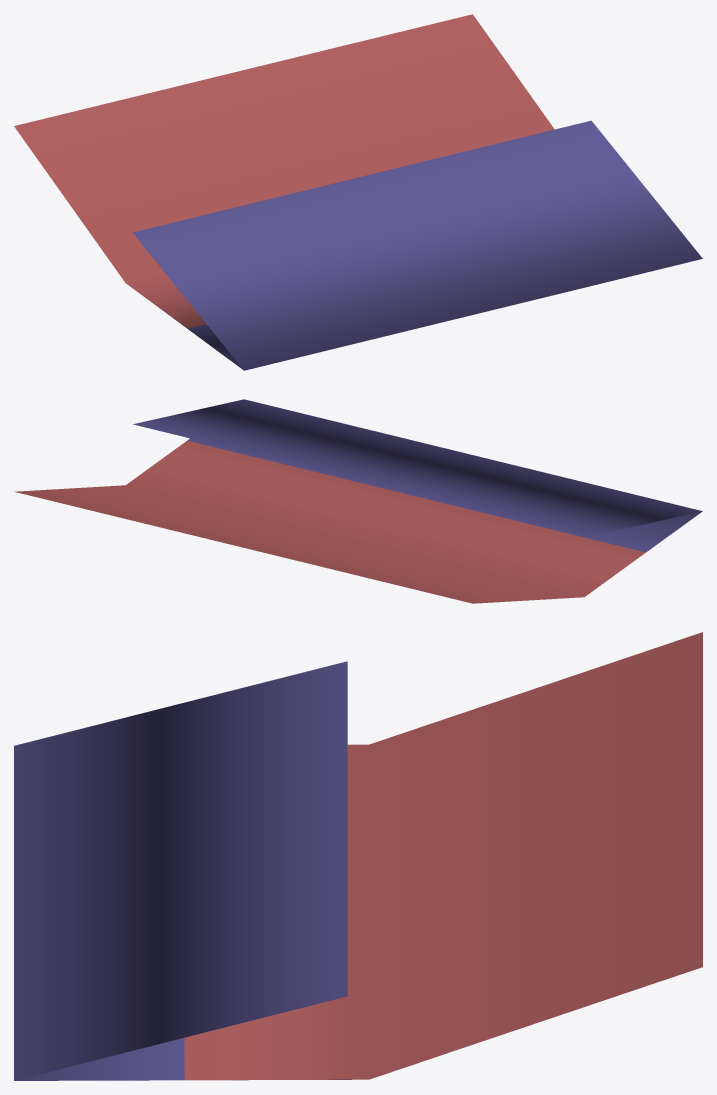
The model's file is Paper3_UV.fbx.
3 renders of one model, top to bottom at view 1: azimuth 30°, elevation 25°; view 2: azimuth 150°, elevation 25°; view 3: azimuth 270°, elevation 25°, orthographic. The views are drawn at different scales.
Parts seen in each view (by area): view 1: polySurface3; view 2: polySurface3; view 3: polySurface3.
Boxes of the visible parts, x1,y1,x2,y2 form: polySurface3: (14, 14, 702, 370); polySurface3: (14, 399, 702, 603); polySurface3: (14, 632, 702, 1080).
Bounding box in the file's own units: 0.85 × 0.1348 × 0.7388.
